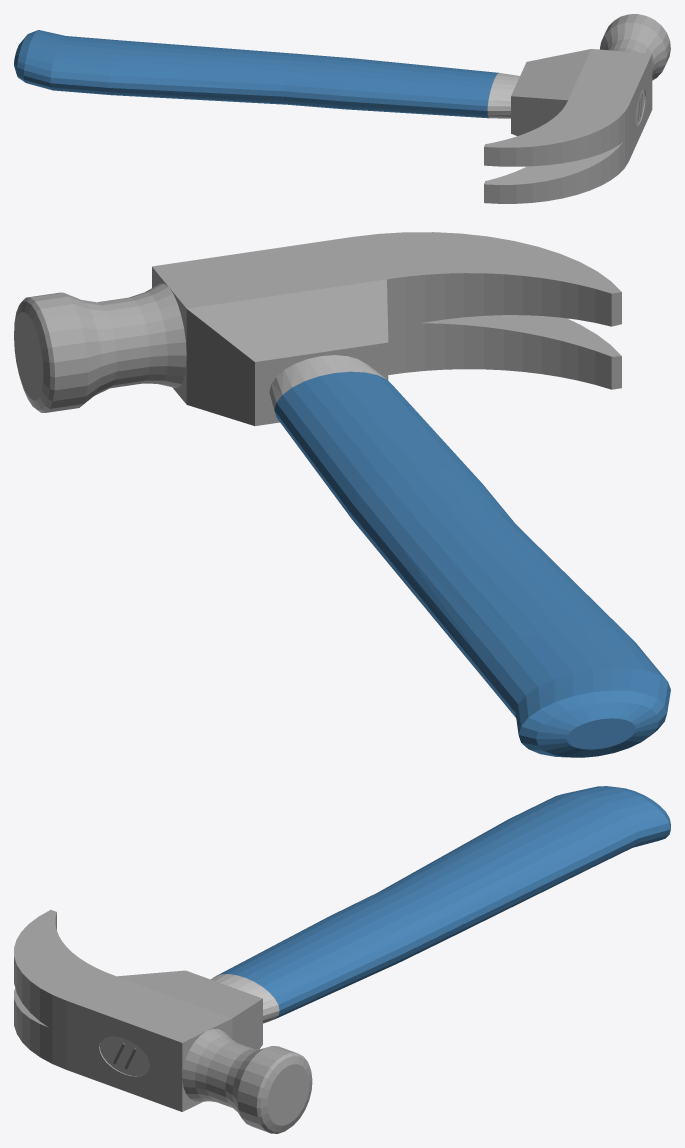
The picture shows the model from 3 angles, top to bottom: view 1: azimuth 30°, elevation 25°; view 2: azimuth 150°, elevation 25°; view 3: azimuth 270°, elevation 25°; orthographic projection. The views are drawn at different scales.
Parts seen in each view (by area): view 1: hammer to fall; view 2: hammer to fall; view 3: hammer to fall.
Boxes of the visible parts, x1=… form: hammer to fall: x1=14, y1=14, x2=670, y2=203; hammer to fall: x1=14, y1=232, x2=670, y2=757; hammer to fall: x1=14, y1=786, x2=670, y2=1133.
Size of the model in its own units: 11.33 by 1.31 by 10.16.
